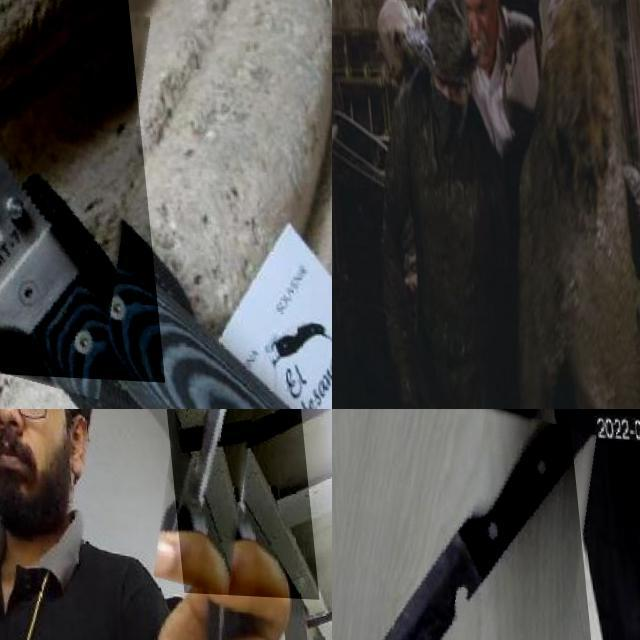-: (0, 0, 225, 378), (332, 409, 604, 640), (132, 409, 308, 640)
